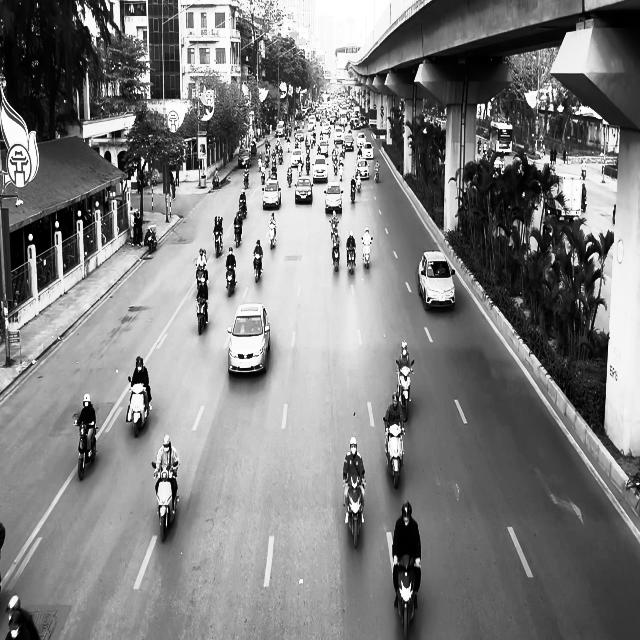bus: (490, 121, 513, 155)
car: (227, 303, 270, 376), (418, 250, 456, 310), (324, 182, 344, 212), (262, 179, 281, 209), (294, 176, 313, 204)
motorbike: (392, 554, 418, 639), (151, 462, 178, 542), (73, 413, 97, 480), (343, 475, 365, 548), (383, 417, 405, 488), (126, 376, 150, 437), (395, 359, 414, 421), (196, 293, 208, 335), (330, 227, 341, 271), (225, 264, 236, 296), (361, 238, 372, 268), (146, 225, 157, 253), (213, 227, 223, 257), (346, 244, 356, 274), (252, 253, 262, 282), (268, 224, 276, 250), (234, 222, 242, 248), (350, 180, 356, 202)
truck: (544, 172, 586, 224)
